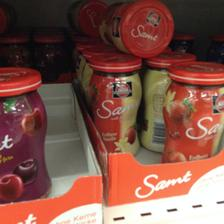Marmelade: (0, 66, 52, 206), (160, 60, 224, 162), (86, 53, 141, 157), (98, 1, 174, 57)
